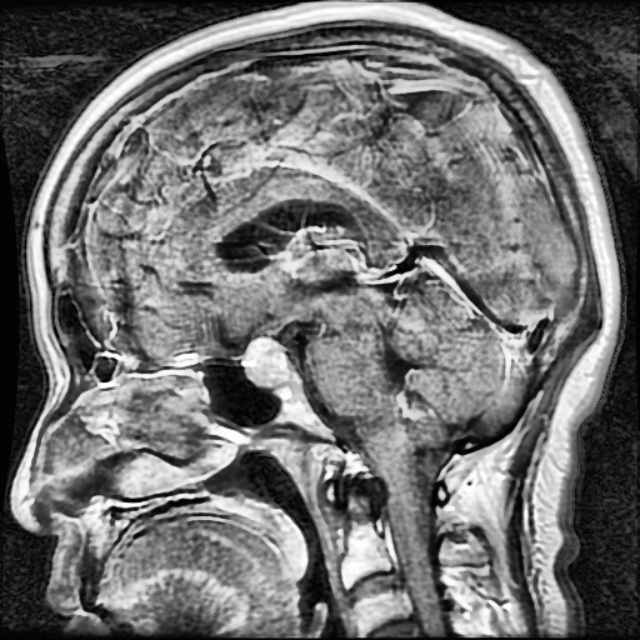Pituitary: (242, 338, 289, 387)
